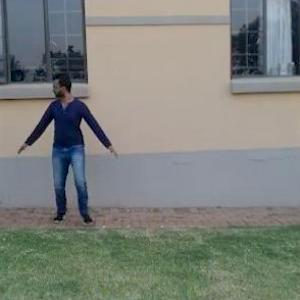land: (27, 68, 123, 232)
